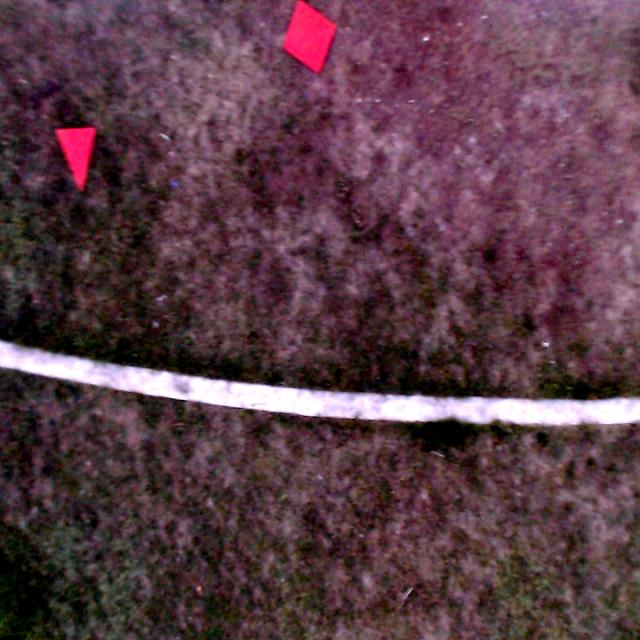red_square: (282, 0, 337, 75)
red_triangle: (56, 128, 98, 193)
